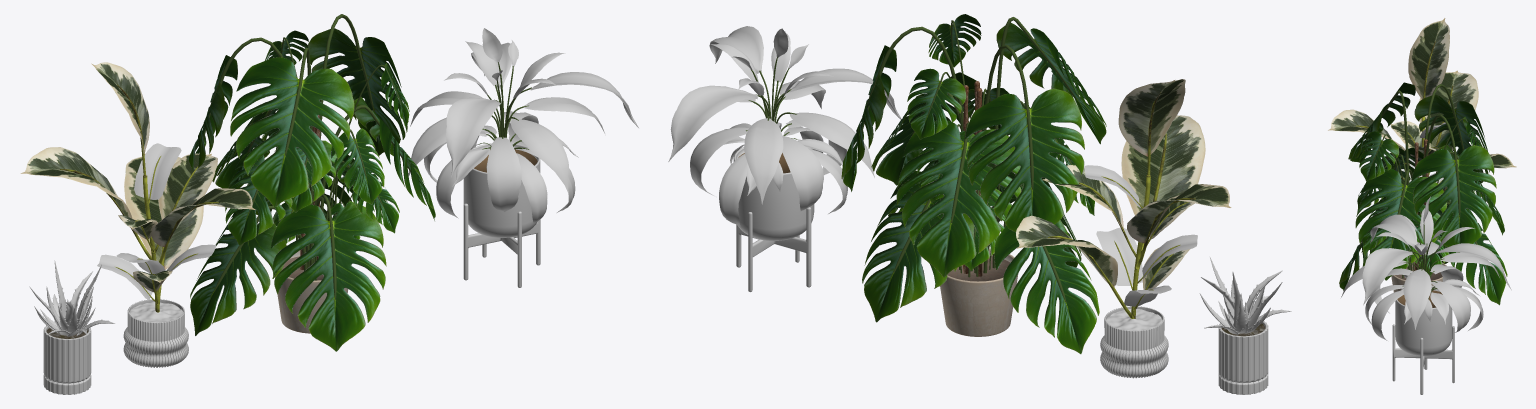
Rendered from Plants.fbx.
3 views of the same model, side by side, from view 1: azimuth 30°, elevation 25°; view 2: azimuth 150°, elevation 25°; view 3: azimuth 270°, elevation 25° (orthographic). The views are drawn at different scales.
Parts seen in each view (by area): view 1: Monstera, Peace Lily, Ficus Elastica, AloeVera; view 2: Monstera, Ficus Elastica, Peace Lily, AloeVera; view 3: Monstera, Peace Lily, Ficus Elastica.
Part boxes in pixels (x1,y1,x2,y2): Monstera: [188, 14, 435, 351]; Peace Lily: [408, 28, 638, 287]; Ficus Elastica: [20, 62, 255, 367]; AloeVera: [29, 260, 115, 394]; Monstera: [841, 14, 1106, 354]; Ficus Elastica: [1016, 79, 1231, 378]; Peace Lily: [668, 26, 901, 292]; AloeVera: [1199, 257, 1291, 394]; Monstera: [1339, 82, 1507, 305]; Peace Lily: [1341, 196, 1511, 394]; Ficus Elastica: [1328, 18, 1516, 242].
Bounding box in the file's own units: 1247 × 615 × 505.
